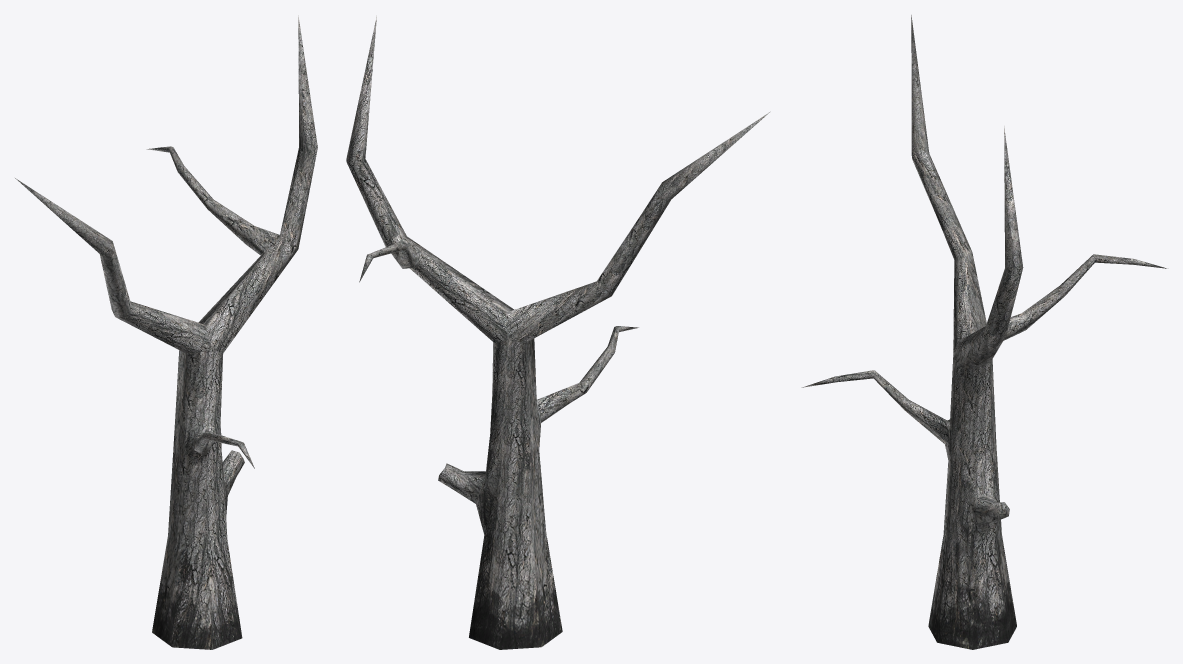
File: TreeBig3.FBX
The picture shows the model from 3 angles, left to right: view 1: azimuth 30°, elevation 25°; view 2: azimuth 150°, elevation 25°; view 3: azimuth 270°, elevation 25°; orthographic projection. The views are drawn at different scales.
Parts seen in each view (by area): view 1: objdefault; view 2: objdefault; view 3: objdefault.
Boxes of the visible parts, left/top/right/bottom form: objdefault: left=15, top=15, right=317, bottom=649; objdefault: left=346, top=15, right=770, bottom=649; objdefault: left=801, top=15, right=1166, bottom=649.
Size of the model in its own units: 17.85 by 27.65 by 16.49.
Materials: 1 (1 with a texture image).
